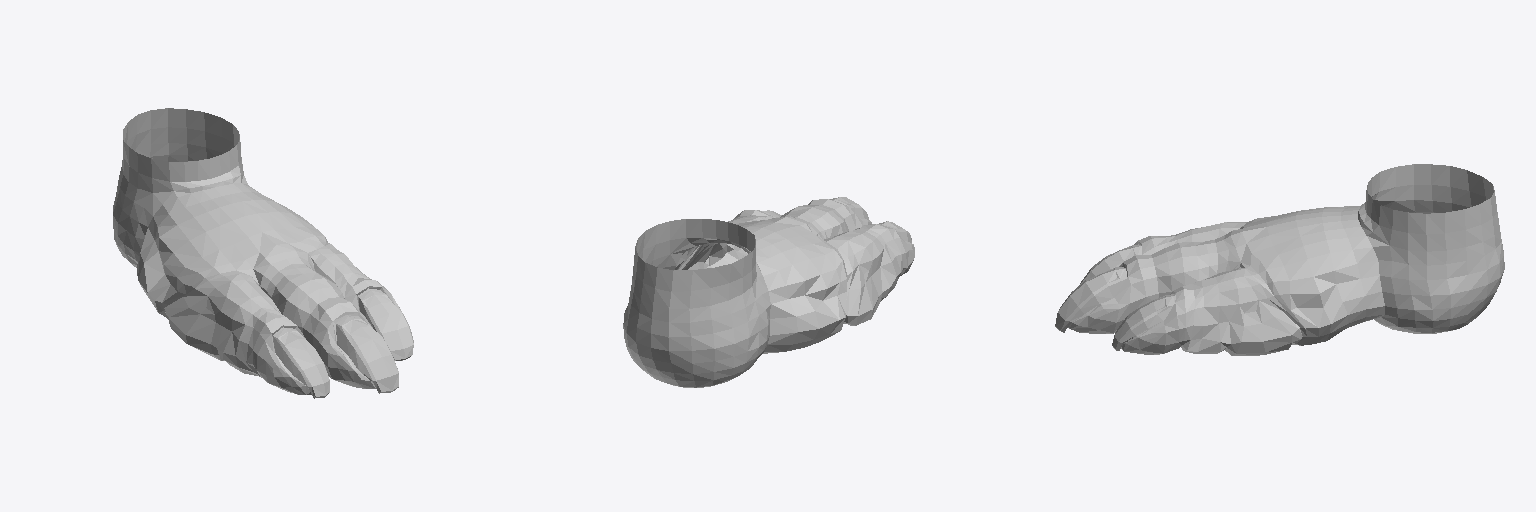
The model's file is penguinRfoot.obj.
3 views of the same model, side by side, from view 1: azimuth 30°, elevation 25°; view 2: azimuth 150°, elevation 25°; view 3: azimuth 270°, elevation 25° (orthographic).
Parts seen in each view (by area): view 1: R_geo_foot_0 mumble; view 2: R_geo_foot_0 mumble; view 3: R_geo_foot_0 mumble.
Boxes of the visible parts, x1,y1,x2,y2 form: R_geo_foot_0 mumble: [113, 108, 413, 398]; R_geo_foot_0 mumble: [623, 197, 914, 387]; R_geo_foot_0 mumble: [1055, 164, 1504, 355].
Bounding box in the file's own units: 9.16 × 6.47 × 19.81.